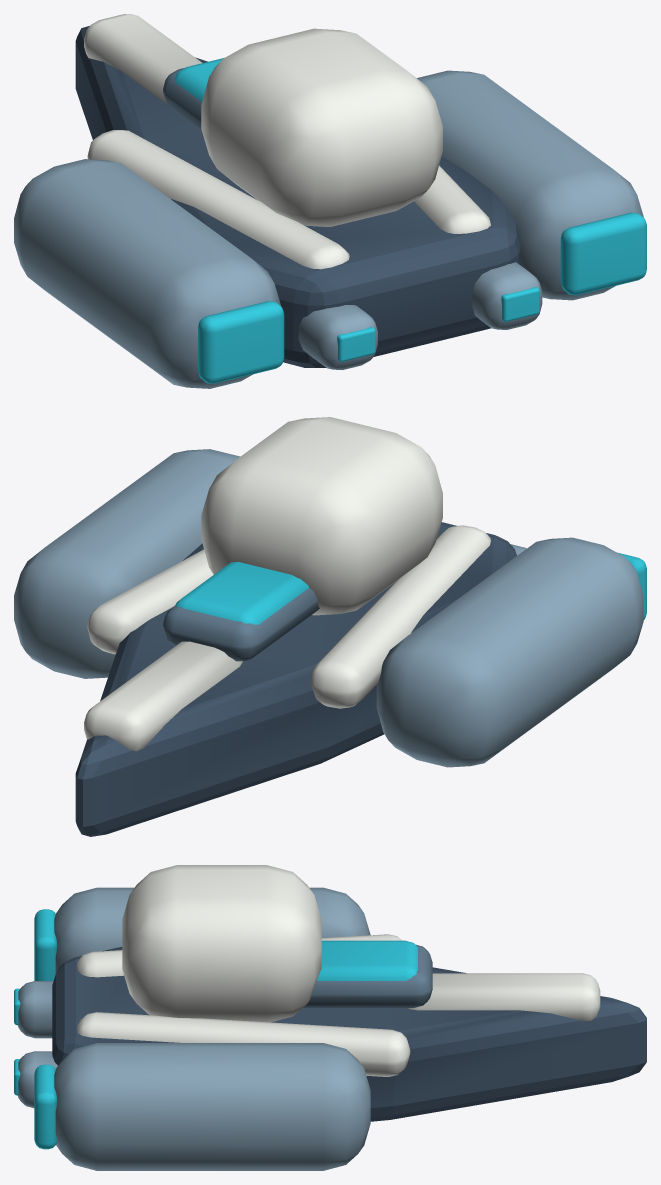
File: transport_shuttle.glb
The picture shows the model from 3 angles, top to bottom: view 1: azimuth 30°, elevation 25°; view 2: azimuth 150°, elevation 25°; view 3: azimuth 270°, elevation 25°; orthographic projection. The views are drawn at different scales.
Parts seen in each view (by area): view 1: Structure; view 2: Structure; view 3: Structure.
Part boxes in pixels (bbox=[...]): Structure: bbox=[14, 14, 646, 388]; Structure: bbox=[14, 417, 646, 836]; Structure: bbox=[14, 865, 646, 1170].
Bounding box in the file's own units: 1.26 × 0.56 × 1.62.
